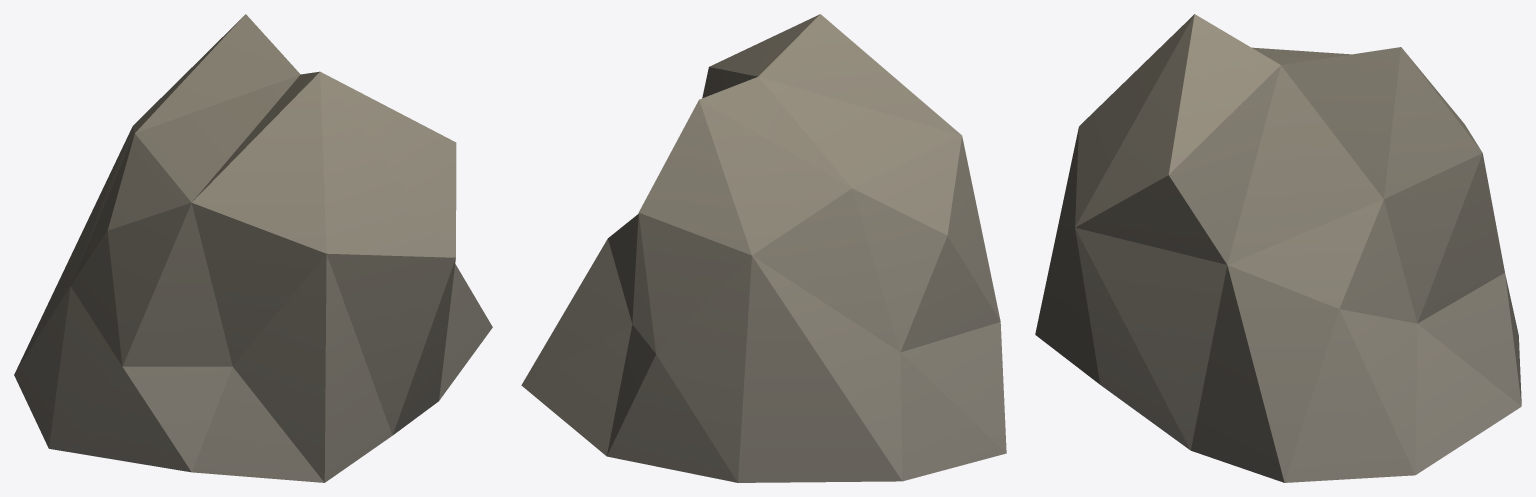
Rendered from coast-rock-v1.glb.
The picture shows the model from 3 angles, left to right: view 1: azimuth 30°, elevation 25°; view 2: azimuth 150°, elevation 25°; view 3: azimuth 270°, elevation 25°; orthographic projection. The views are drawn at different scales.
Parts seen in each view (by area): view 1: CoastalRock; view 2: CoastalRock; view 3: CoastalRock.
Boxes of the visible parts, <box> form: CoastalRock: <box>14,14,492,482</box>; CoastalRock: <box>521,14,1006,482</box>; CoastalRock: <box>1035,14,1521,482</box>.
Bounding box in the file's own units: 1 × 0.78 × 0.9009.
